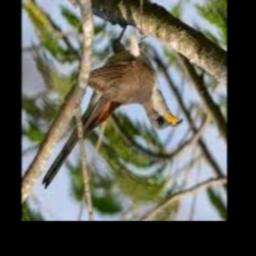Cuckoo: (43, 22, 184, 189)
